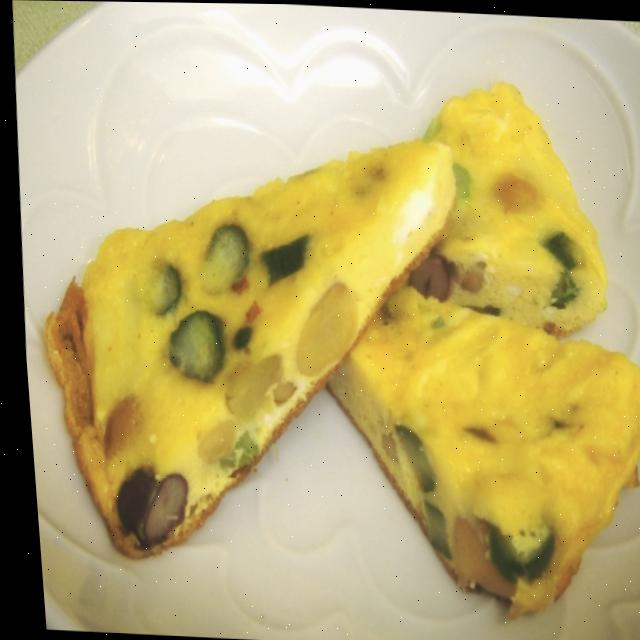鸡蛋料理: (7, 64, 640, 615)
